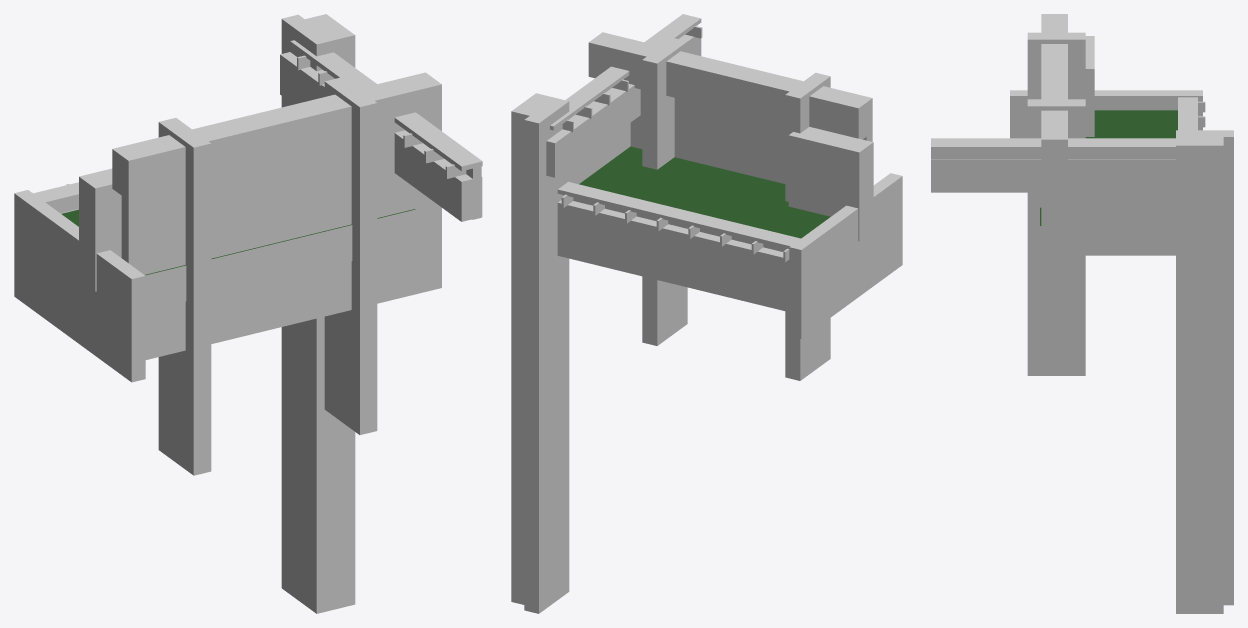
File: Building03.fbx
3 views of the same model, side by side, from view 1: azimuth 30°, elevation 25°; view 2: azimuth 150°, elevation 25°; view 3: azimuth 270°, elevation 25° (orthographic). The views are drawn at different scales.
Parts seen in each view (by area): view 1: 03; view 2: 03; view 3: 03.
Boxes of the visible parts, x1,y1,x2,y2 form: 03: [14, 14, 482, 613]; 03: [511, 14, 902, 613]; 03: [931, 14, 1233, 613].
Size of the model in its own units: 1084 by 1831 by 1046.
